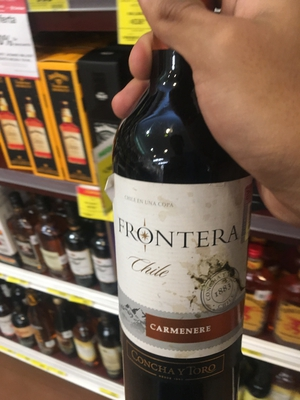frontera carmenere: (112, 42, 265, 395)
